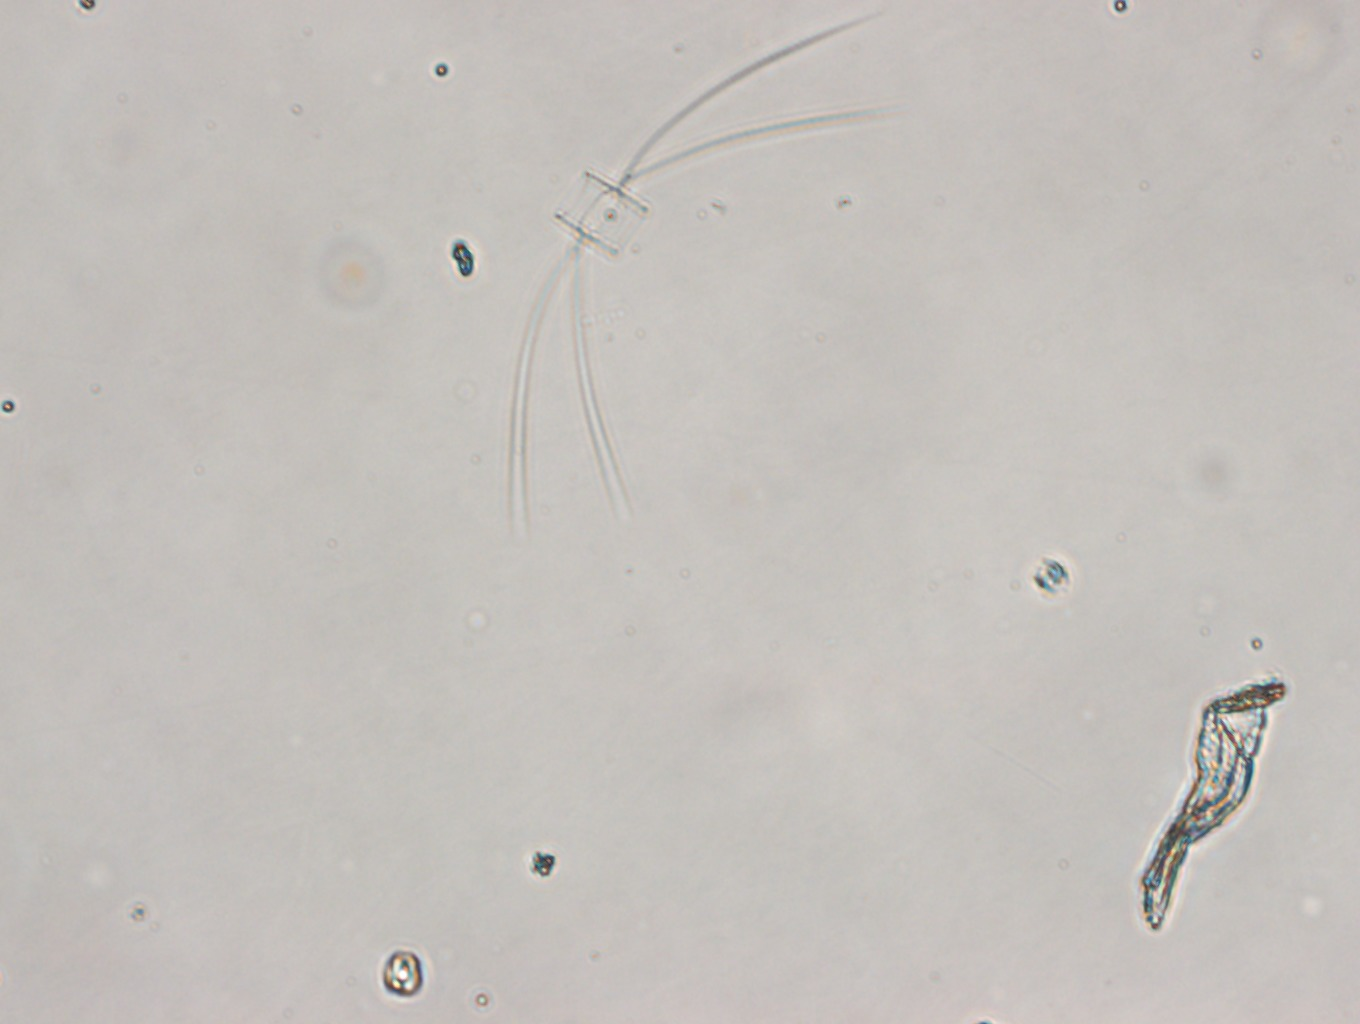chaetoceros: (493, 2, 898, 540)
